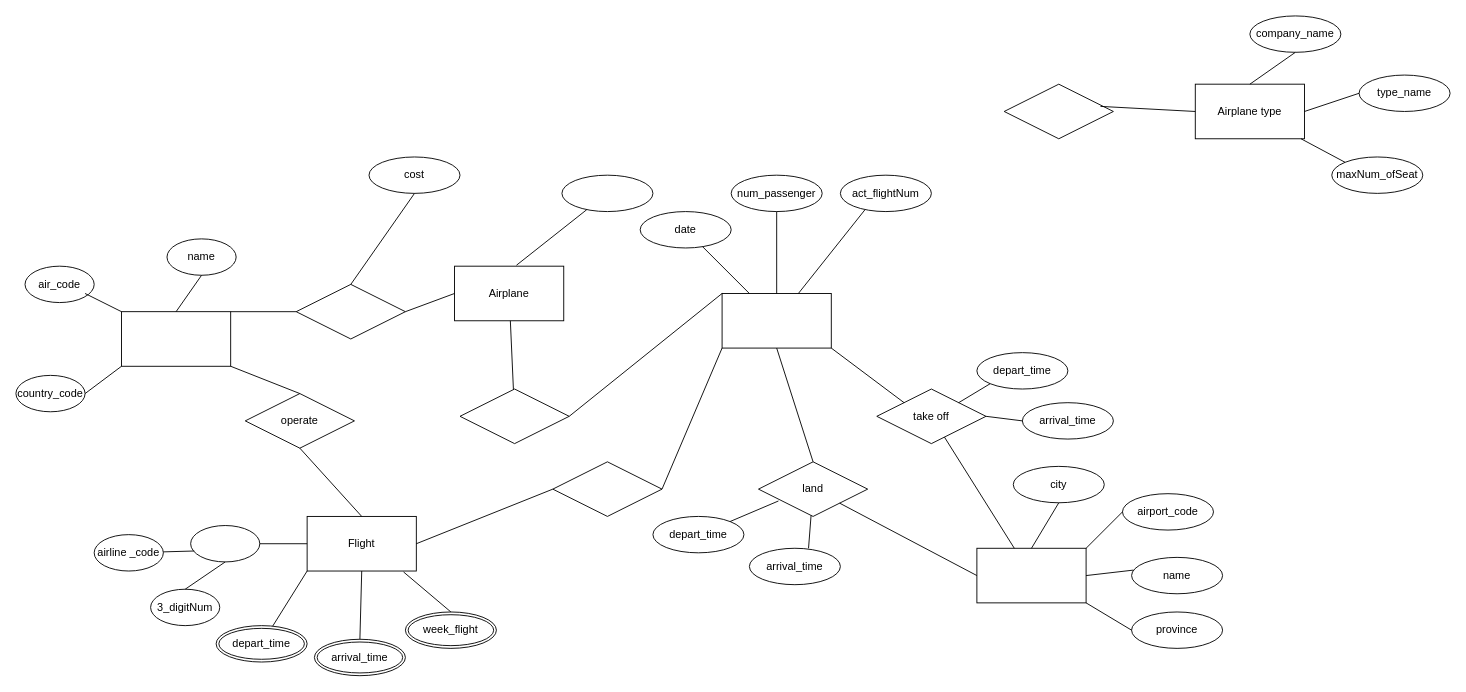
Image size: 1466x692. Some labels were removed from this diagram. Here are the shapes that lost their labels. From the top down, the centre of each, then its label:
the point at 1058,111: has
the point at 607,193: serial_num
the point at 350,311: own
the point at 776,320: Acutal Flight
the point at 176,338: Airline
the point at 514,416: assigned
the point at 607,488: offer
the point at 225,543: flightNum
the point at 1031,575: Airport
